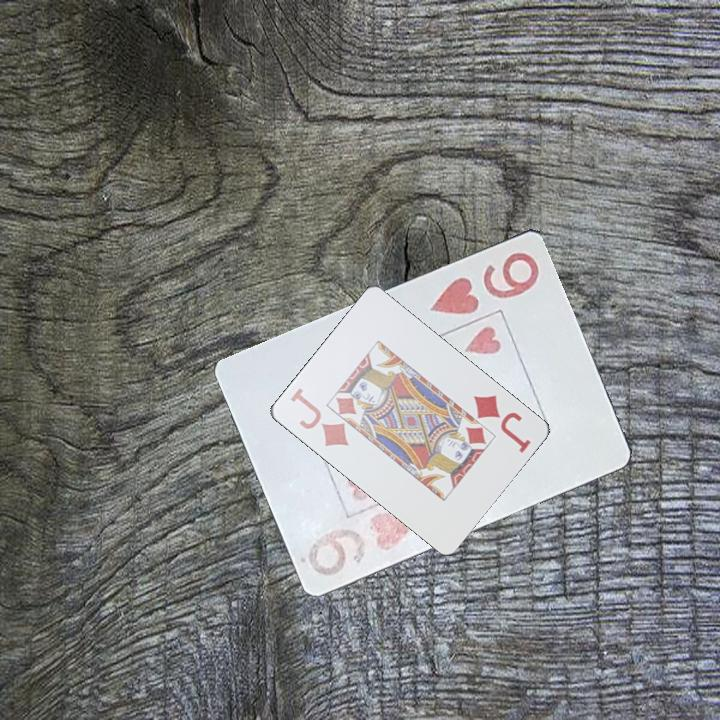9h: (298, 506, 422, 579), (423, 247, 543, 317)
Jd: (469, 391, 534, 456), (286, 385, 352, 449)
